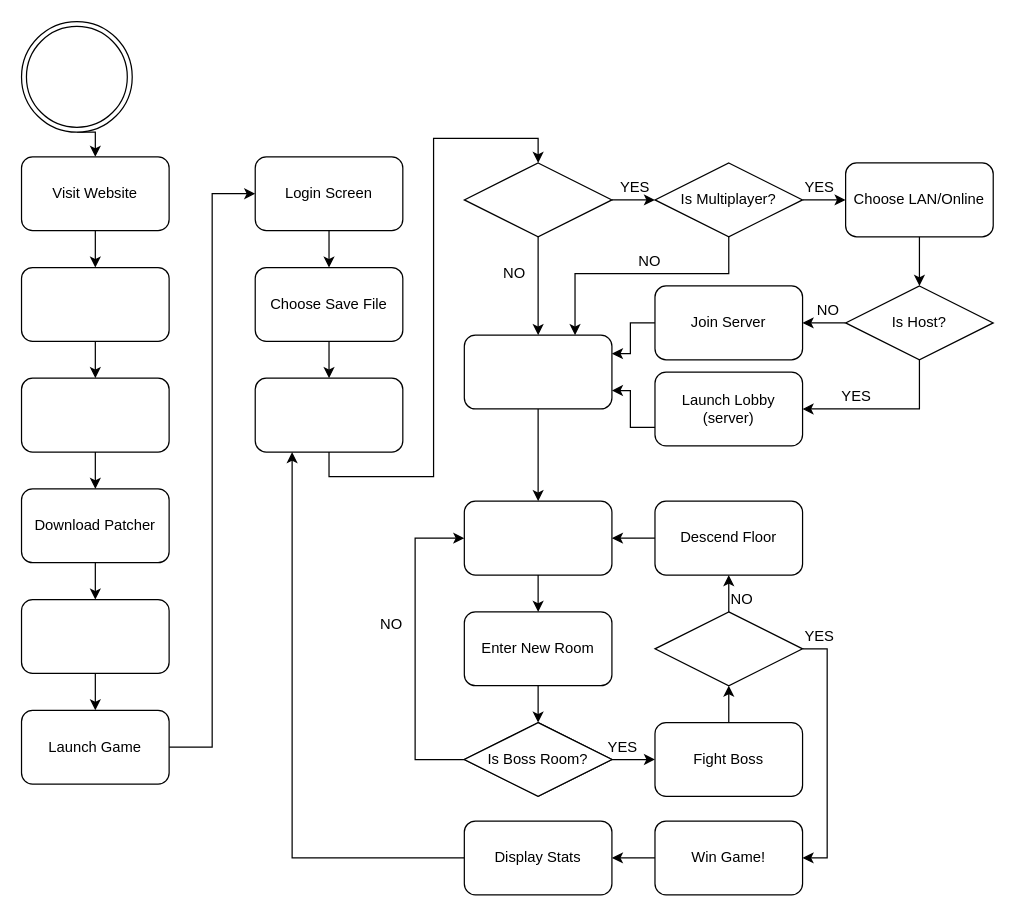
Image size: 1015x916. Some labels were removed from this diagram. The box of each missing label's shape, as (x1, y1, x2, y2) in pixels:
Begin Descent: (463, 334, 612, 409)
Clear Room: (463, 500, 612, 575)
Game HUB: (254, 377, 403, 452)
Is Final Boss?: (654, 611, 803, 686)
Is First Load?: (463, 162, 612, 237)
Log-in: (20, 377, 169, 452)
Register Account: (20, 266, 169, 341)
Run Patcher: (20, 598, 169, 673)
User does not have game: (20, 20, 132, 132)
